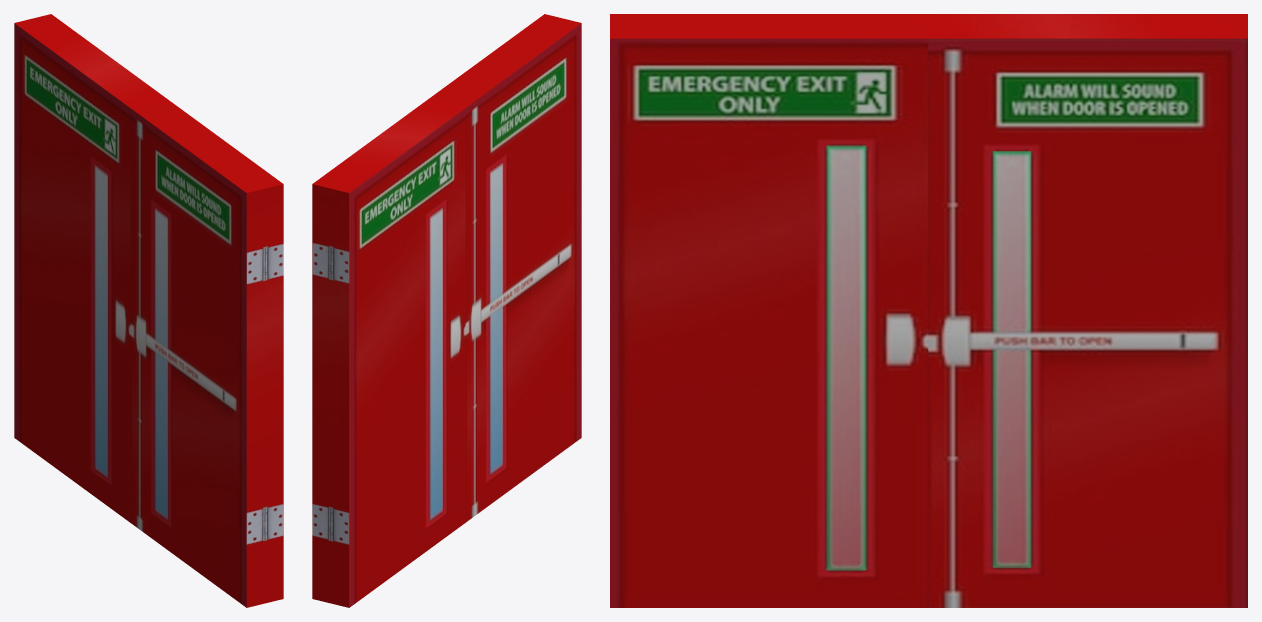
File: Puerta_CC_TH.fbx
3 views of the same model, side by side, from view 1: azimuth 30°, elevation 25°; view 2: azimuth 150°, elevation 25°; view 3: azimuth 270°, elevation 25° (orthographic). The views are drawn at different scales.
Parts seen in each view (by area): view 1: Puerta1_CC_TH, Puerta2_CC_TH; view 2: Puerta2_CC_TH, Puerta1_CC_TH; view 3: Puerta2_CC_TH, Puerta1_CC_TH.
Boxes of the visible parts, x1,y1,x2,y2 form: Puerta1_CC_TH: (130, 99, 283, 607); Puerta2_CC_TH: (14, 14, 167, 522); Puerta2_CC_TH: (312, 99, 465, 607); Puerta1_CC_TH: (429, 14, 581, 522); Puerta2_CC_TH: (928, 14, 1247, 607); Puerta1_CC_TH: (610, 14, 928, 607).
Bounding box in the file's own units: 38.03 × 407 × 414.
Materials: 2 (2 with a texture image).
